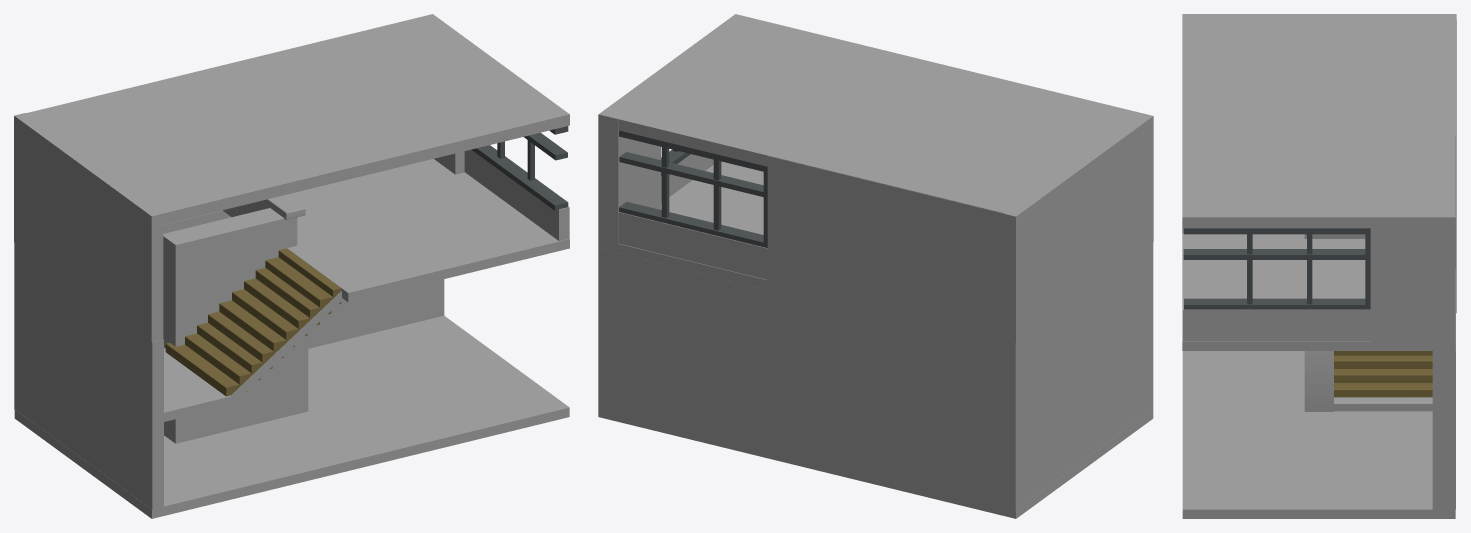
The model's file is Stairwell_Right.fbx.
The picture shows the model from 3 angles, left to right: view 1: azimuth 30°, elevation 25°; view 2: azimuth 150°, elevation 25°; view 3: azimuth 270°, elevation 25°; orthographic projection.
Visible parts, largest first — view 1: pPlane9, pPlane5, pCube74, pPlane6, pCube75, pPlane8, pPlane7, pCube76, pCube80, Staircase_Step_10, Staircase_Step_14, Staircase_Step_18 (+8 smaller); view 2: pPlane7, pPlane9, pCube81 (×2), pCube74, pCube75, pPlane5, pCube76 (×2), pPlane6, pCube80, pCube77; view 3: pPlane9, pPlane5, pPlane6, pCube81, pCube76, pPlane7, pCube80, pPlane8, pCube77, Staircase_Step_0, Staircase_Step_1, Staircase_Step_2 (+4 smaller).
Part boxes in pixels (x1,y1,x2,y2): pPlane9: [23, 14, 569, 224]; pPlane5: [14, 315, 569, 518]; pCube74: [14, 243, 163, 509]; pPlane6: [223, 159, 569, 302]; pCube75: [14, 113, 163, 342]; pPlane8: [163, 208, 343, 443]; pPlane7: [163, 210, 444, 348]; pCube76: [464, 149, 569, 240]; pCube80: [471, 126, 568, 210]; Staircase_Step_10: [165, 342, 247, 396]; Staircase_Step_14: [219, 300, 294, 351]; Staircase_Step_18: [265, 257, 341, 307]; pPlane7: [598, 248, 1003, 506]; pPlane9: [598, 14, 1144, 214]; pCube81 (×2): [598, 114, 1004, 347]; pCube74: [1004, 242, 1153, 510]; pCube75: [1004, 114, 1153, 342]; pPlane5: [598, 407, 1153, 518]; pCube76 (×2): [618, 154, 767, 279]; pPlane6: [598, 161, 767, 289]; pCube80: [619, 130, 767, 247]; pCube77: [619, 152, 763, 196]; pPlane9: [1182, 18, 1455, 228]; pPlane5: [1182, 351, 1455, 518]; pPlane6: [1182, 233, 1455, 350]; pCube81: [1370, 217, 1455, 341]; pCube76: [1183, 305, 1370, 341]; pPlane7: [1432, 268, 1455, 509]; pCube80: [1184, 228, 1370, 309]; pPlane8: [1304, 351, 1432, 411]; pCube77: [1183, 249, 1365, 259]; Staircase_Step_0: [1334, 383, 1432, 397]; Staircase_Step_1: [1334, 369, 1432, 382]; Staircase_Step_2: [1334, 355, 1432, 368].
Bounding box in the file's own units: 1034 × 715 × 590.
